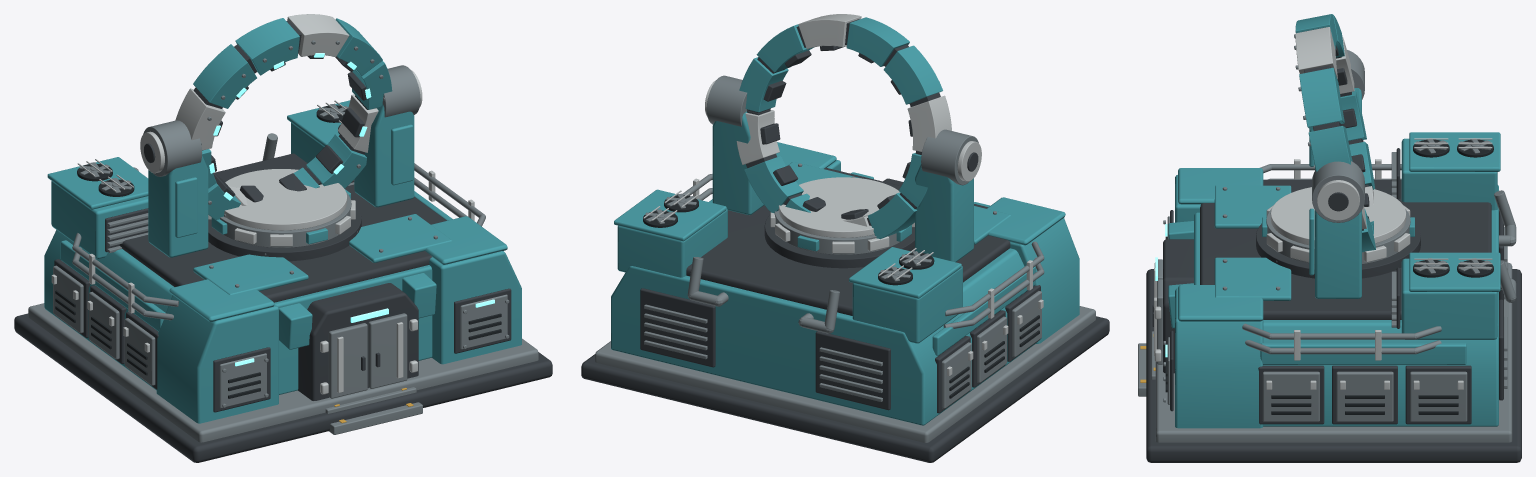
The model's file is research-scanner.glb.
3 renders of one model, left to right at view 1: azimuth 30°, elevation 25°; view 2: azimuth 150°, elevation 25°; view 3: azimuth 270°, elevation 25°, orthographic. The views are drawn at different scales.
Visible parts, largest first — view 1: modelRoot-team-primary, modelRoot-neutral-metal, modelRoot-structure, scannerTilt-team-primary, modelRoot-armor, scannerTilt-armor, scannerTilt-structure, modelRoot-rubber, scannerTilt-system-emissive; view 2: modelRoot-team-primary, modelRoot-structure, modelRoot-neutral-metal, scannerTilt-team-primary, modelRoot-armor, scannerTilt-armor, scannerTilt-structure, modelRoot-rubber; view 3: modelRoot-team-primary, modelRoot-structure, modelRoot-neutral-metal, modelRoot-armor, scannerTilt-team-primary, modelRoot-rubber, scannerTilt-armor, scannerTilt-structure.
Part boxes in pixels (bbox=[...]): modelRoot-team-primary: bbox=[44, 100, 521, 423]; modelRoot-neutral-metal: bbox=[28, 65, 538, 442]; modelRoot-structure: bbox=[14, 143, 552, 462]; scannerTilt-team-primary: bbox=[193, 18, 392, 219]; modelRoot-armor: bbox=[51, 70, 474, 394]; scannerTilt-armor: bbox=[175, 14, 378, 205]; scannerTilt-structure: bbox=[193, 20, 376, 202]; modelRoot-rubber: bbox=[55, 105, 501, 398]; scannerTilt-system-emissive: bbox=[209, 53, 371, 200]; modelRoot-team-primary: bbox=[611, 111, 1079, 425]; modelRoot-structure: bbox=[581, 152, 1109, 462]; modelRoot-neutral-metal: bbox=[595, 75, 1095, 442]; scannerTilt-team-primary: bbox=[739, 17, 942, 239]; modelRoot-armor: bbox=[643, 80, 1043, 376]; scannerTilt-armor: bbox=[736, 14, 951, 226]; scannerTilt-structure: bbox=[746, 19, 940, 225]; modelRoot-rubber: bbox=[643, 195, 1039, 398]; modelRoot-team-primary: bbox=[1168, 88, 1500, 428]; modelRoot-structure: bbox=[1146, 148, 1521, 462]; modelRoot-neutral-metal: bbox=[1138, 50, 1516, 442]; modelRoot-armor: bbox=[1154, 138, 1492, 389]; scannerTilt-team-primary: bbox=[1295, 14, 1375, 252]; modelRoot-rubber: bbox=[1165, 139, 1493, 414]; scannerTilt-armor: bbox=[1295, 27, 1373, 229]; scannerTilt-structure: bbox=[1304, 27, 1369, 230].
Bounding box in the file's own units: 2.9 × 2.61 × 2.6.
